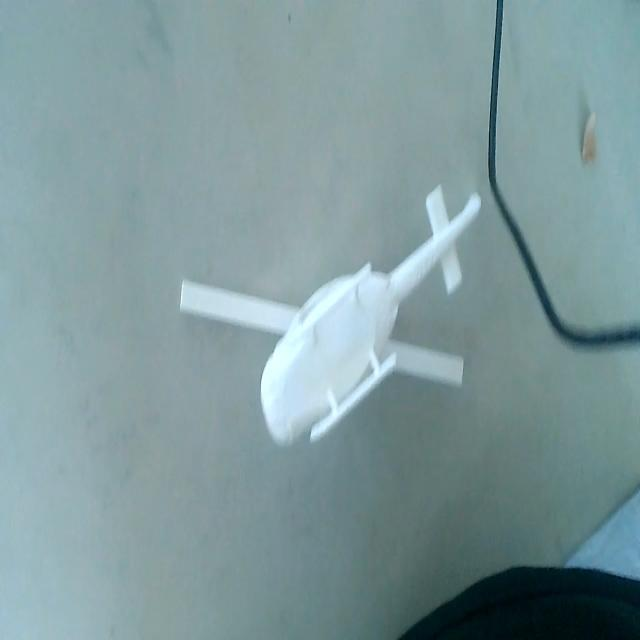Helicopter: (184, 186, 484, 437)
